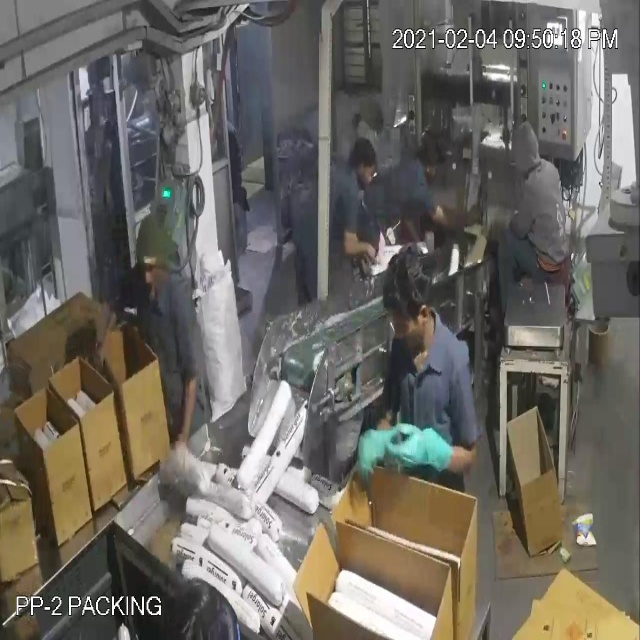Guantes: (390, 410, 474, 500), (346, 398, 399, 484)
Sin_guantes: (83, 278, 142, 377), (159, 348, 207, 467), (427, 193, 491, 242), (337, 226, 377, 271)
